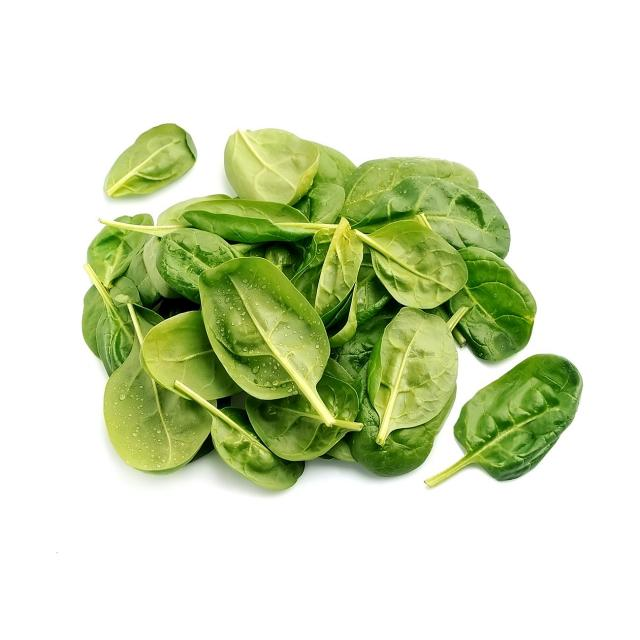spinach: (201, 259, 326, 402), (457, 357, 588, 480), (369, 306, 456, 440), (100, 118, 201, 203), (223, 122, 322, 203), (466, 248, 537, 358), (99, 404, 208, 472), (142, 313, 207, 399), (160, 228, 202, 292)
